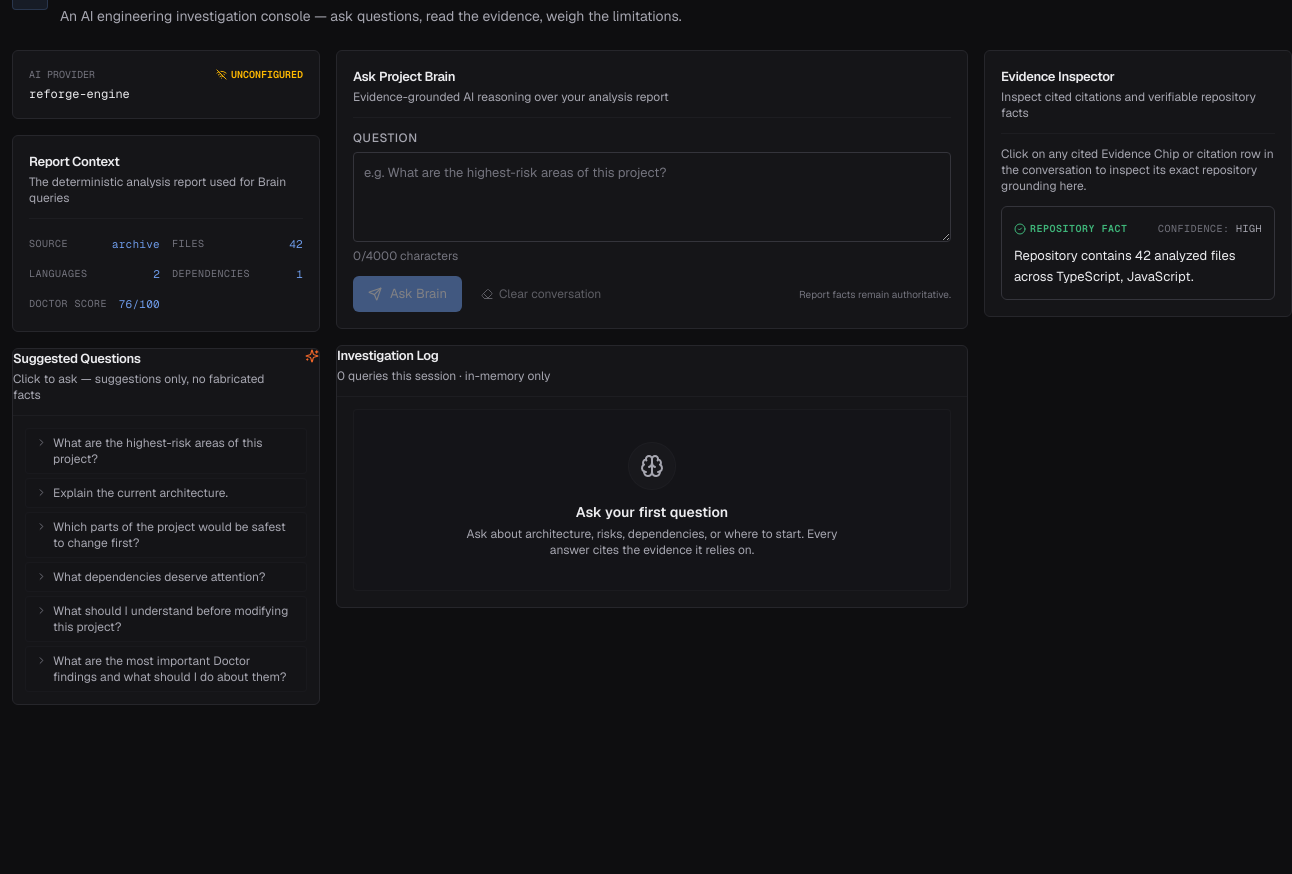
it: Project Brain › supports a multi-question investigation log
Step 1. Type "First question" into the text box labelled "Question" → (652, 197), box [353,152,951,242]
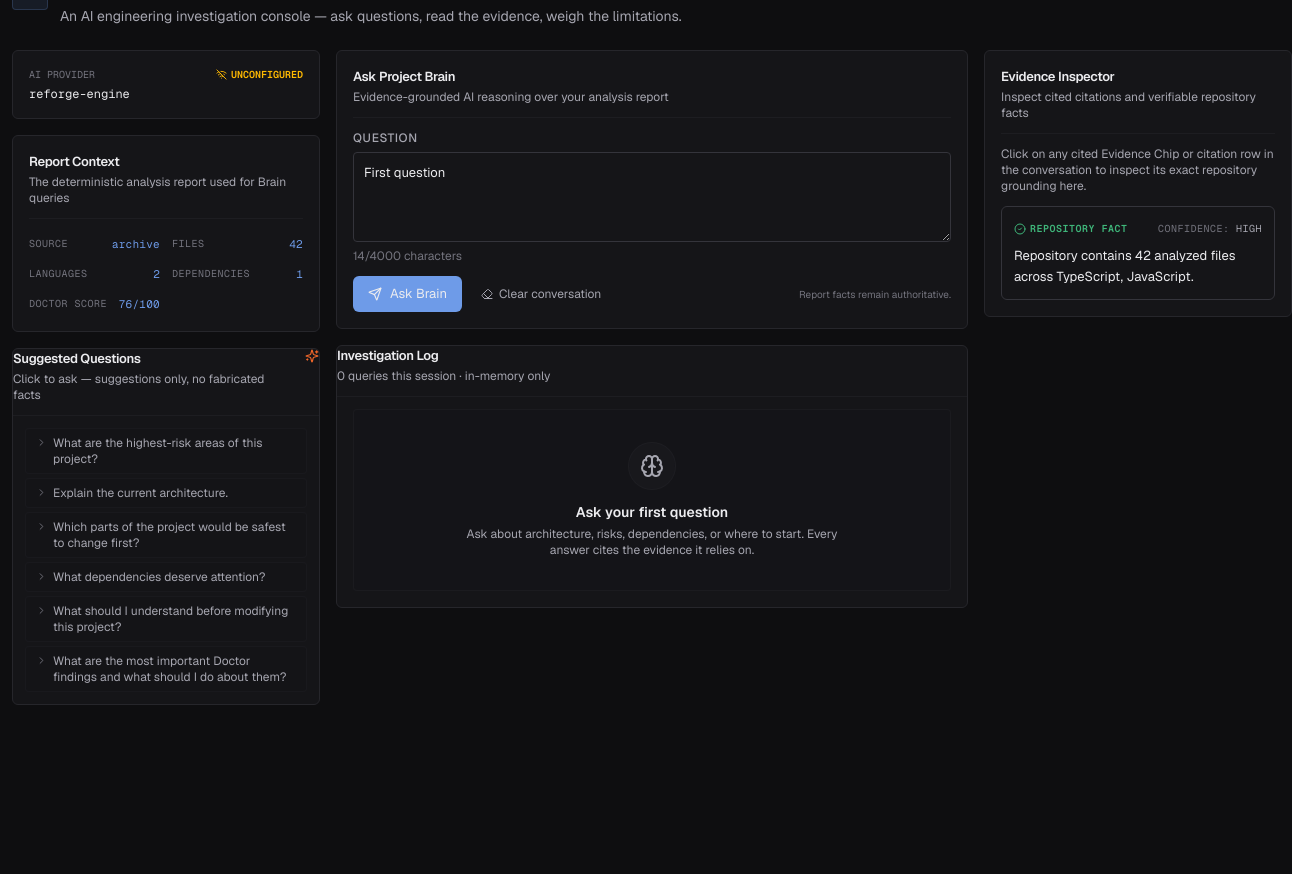
Step 2. Click the button "Ask Brain" → (408, 294), box [353,276,462,312]
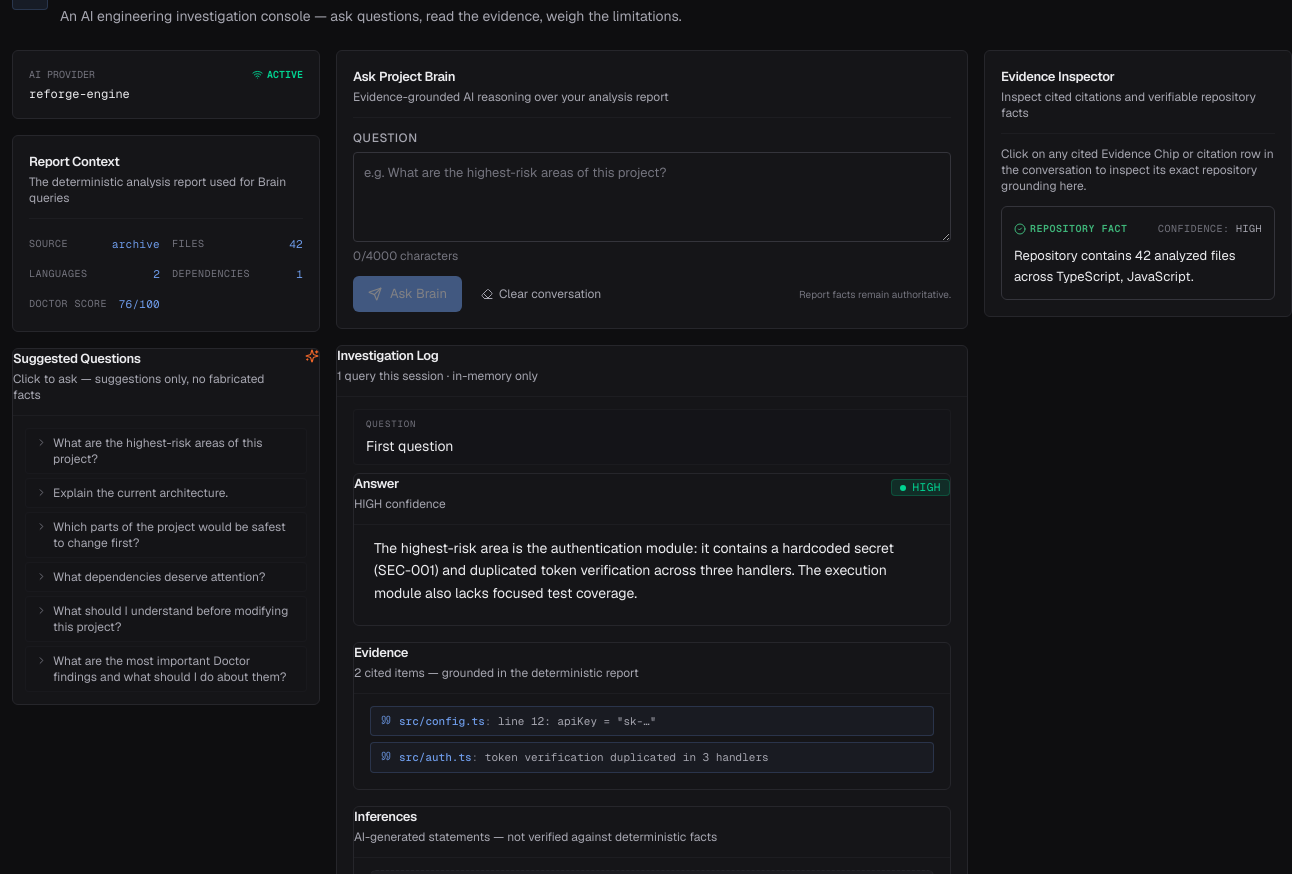
Expected: the text "First question" is shown, [366,436,454,454]
Step 3. Type "Second question" into the text box labelled "Question" → (652, 197), box [353,152,951,242]
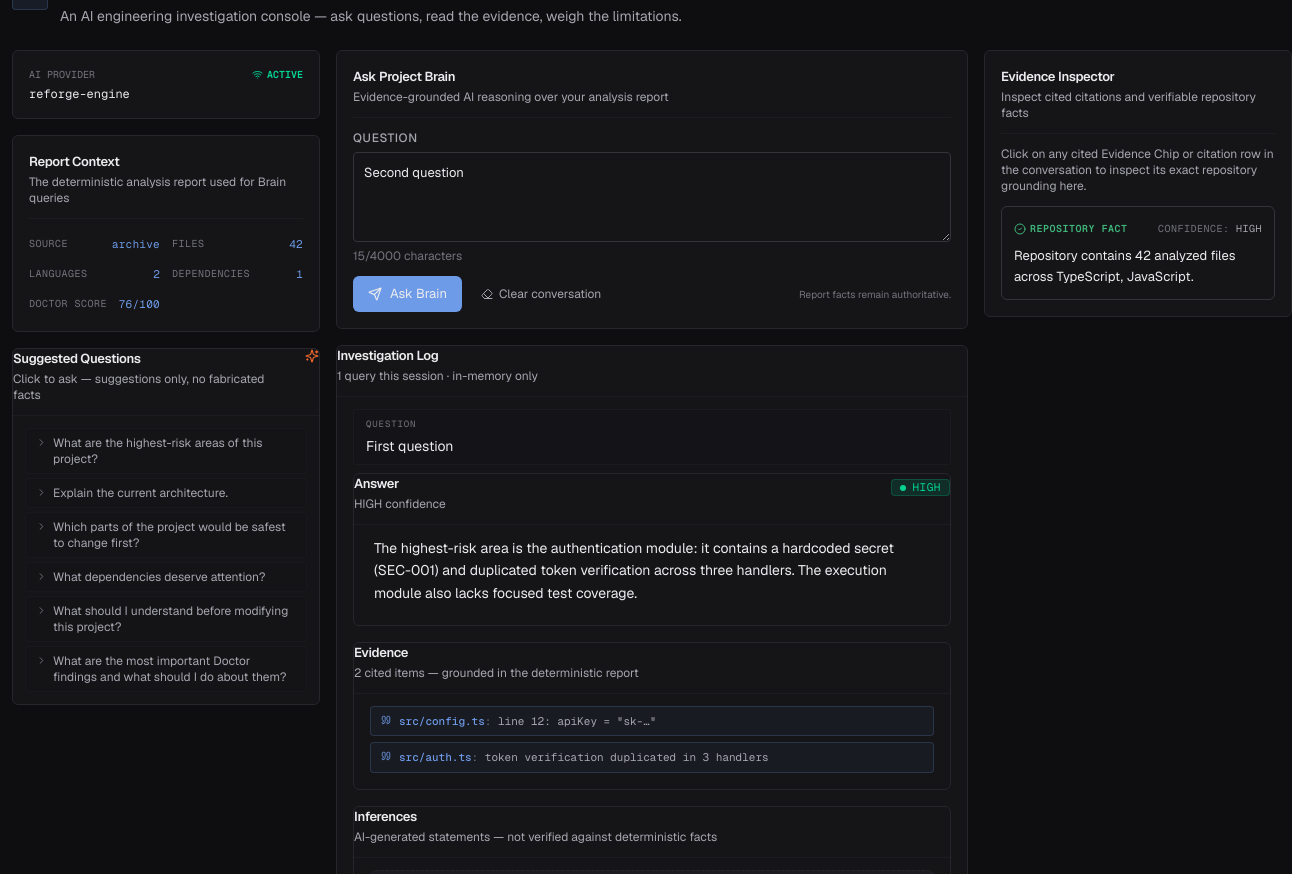
Step 4. Click the button "Ask Brain" → (408, 294), box [353,276,462,312]
(page scrolled)
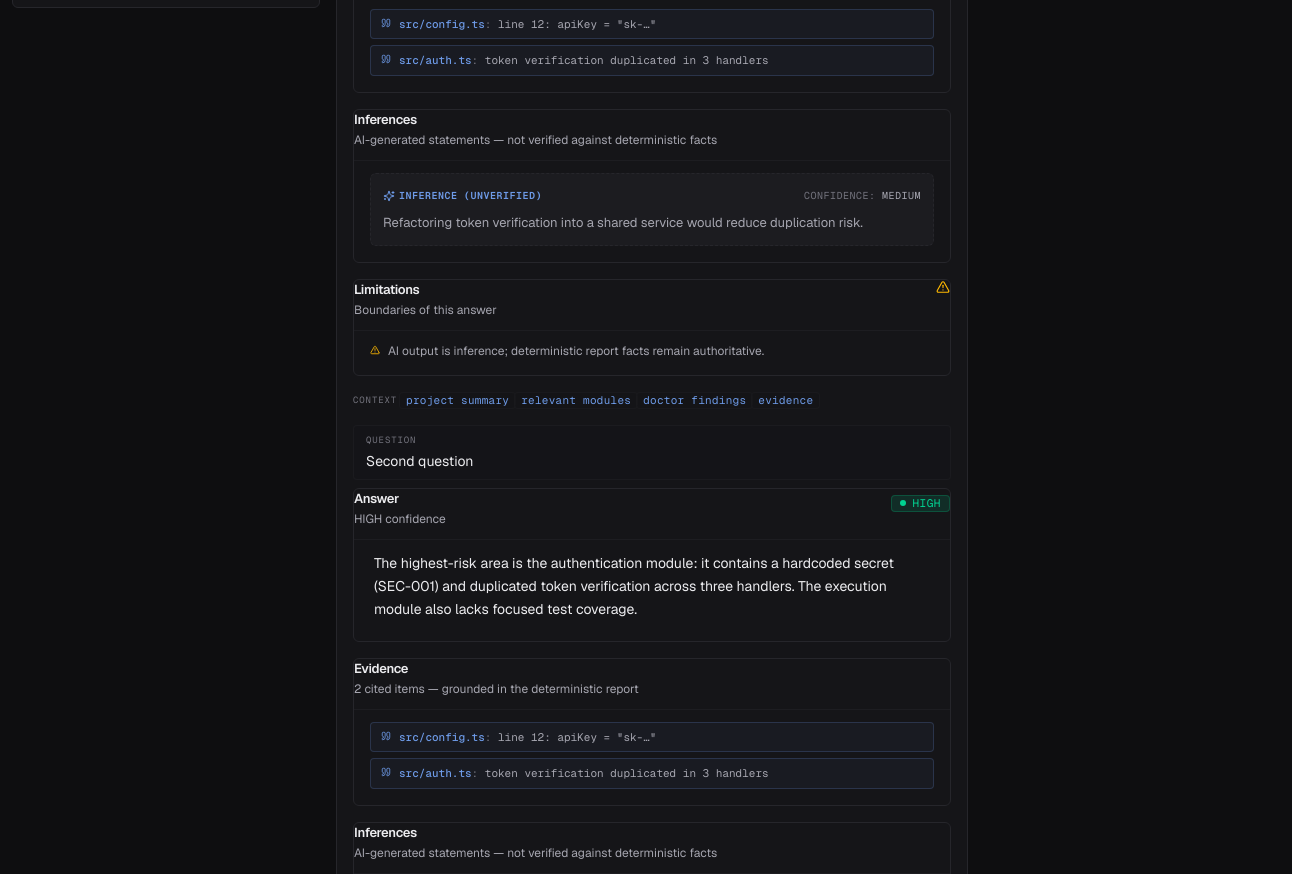
Expected: the text "Second question" is shown, [366,452,473,470]
